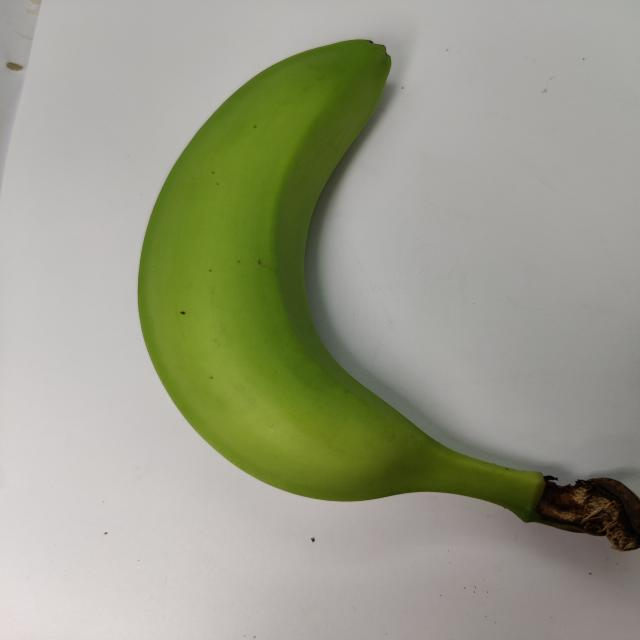raw: (96, 29, 640, 575)
